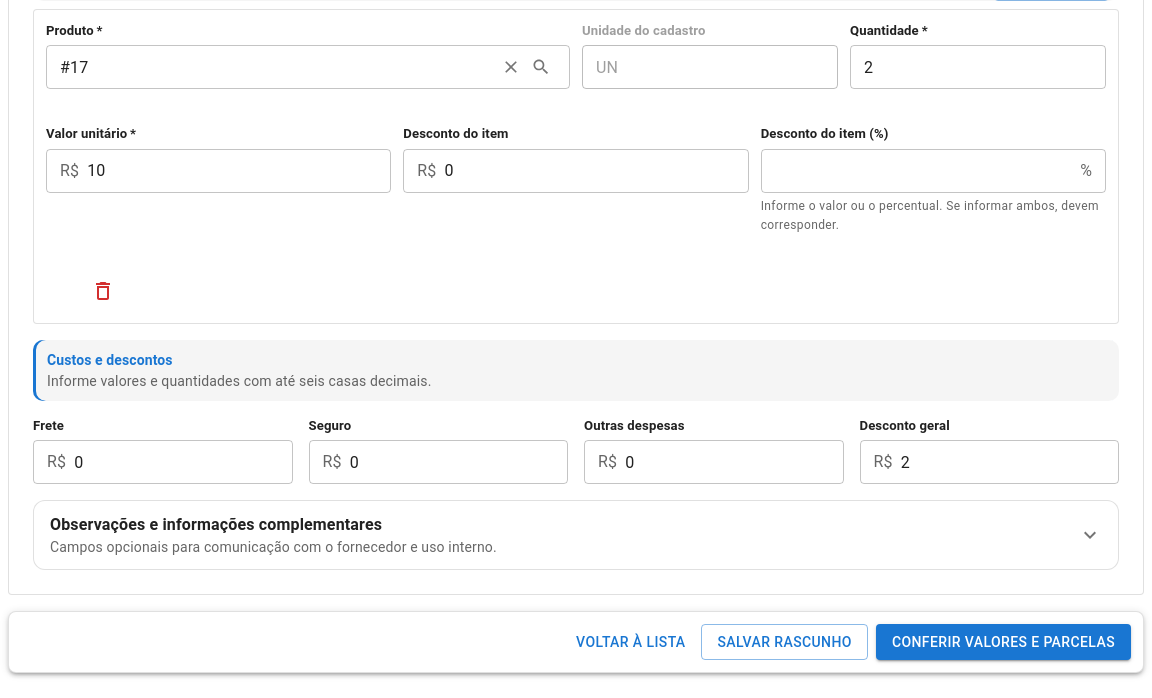
Test: Nota editável, revisão e confirmação por ID › mantém ações disponíveis e recolhe observações complementares
The image size is (1152, 698).
(page scrolled)
Expected: the element named "Ações da Nota de Entrada" is shown, [8,611,1144,674]
Expected: the field labelled "Observação interna" is not shown
Click the button "Observações e informações complementares".
click(216, 525)  # box [34,501,1118,569]
(page scrolled)
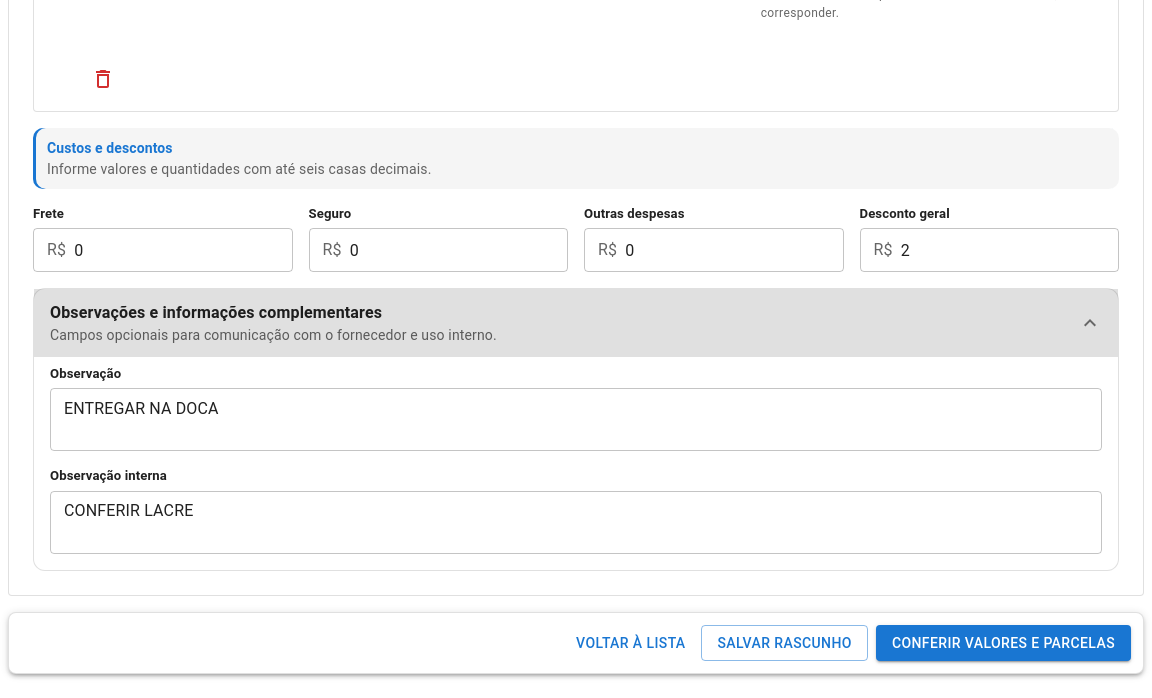
Now the text box labelled "Observação" holds "Entregar na doca", box [64,397,1088,443]
Now the text box labelled "Observação interna" holds "Conferir lacre", box [64,499,1088,545]
